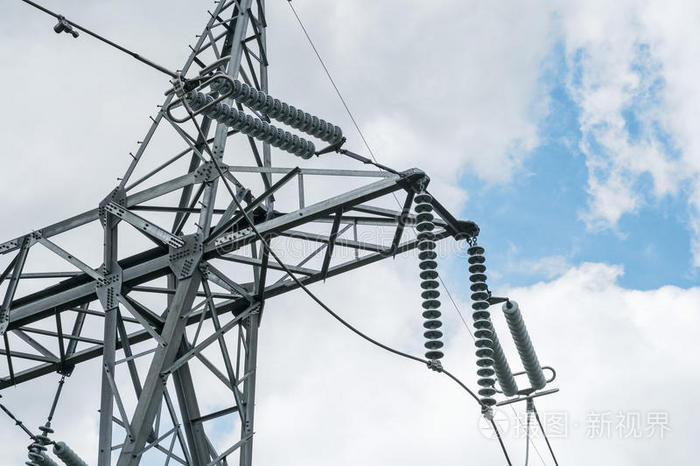insulator: (187, 77, 347, 160), (414, 192, 444, 361), (493, 306, 545, 398), (466, 245, 495, 408), (24, 422, 55, 465)
